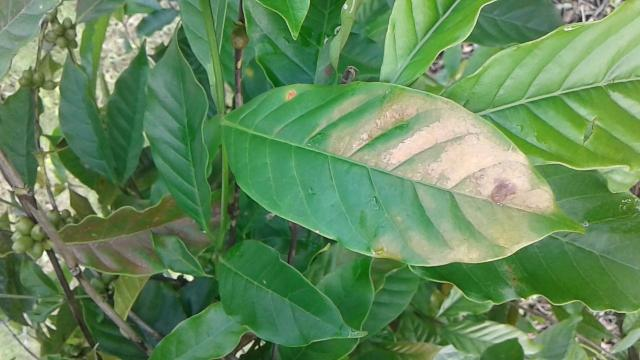red_spider_mite: (224, 76, 599, 266)
